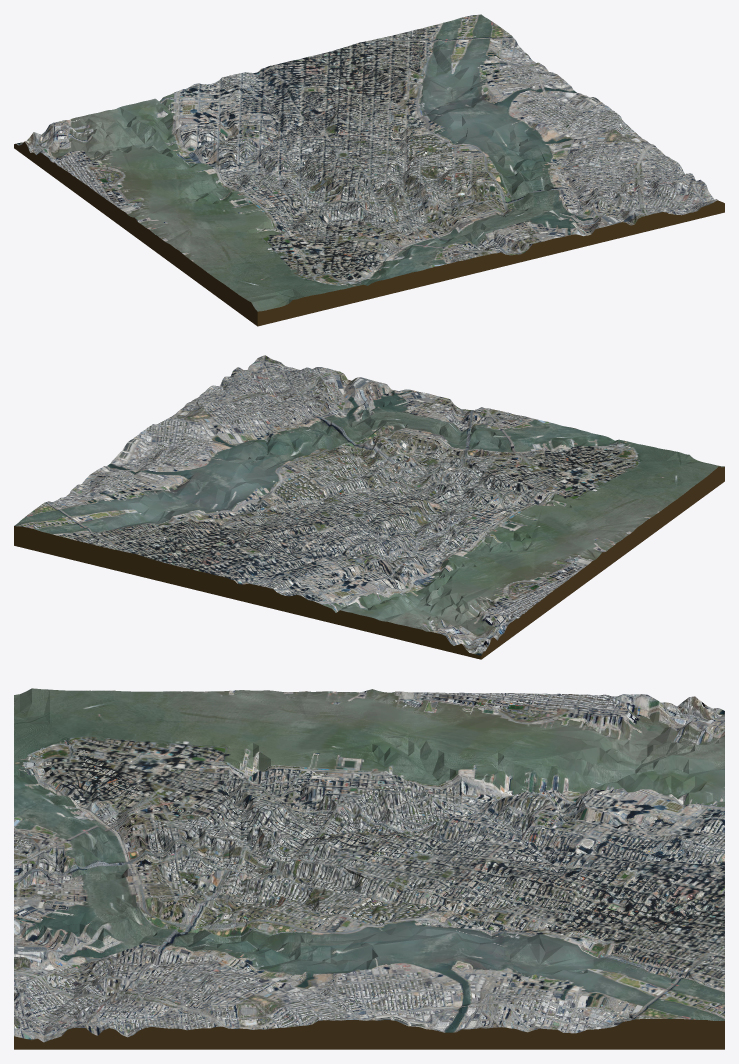
3 views of the same model, one above another, from view 1: azimuth 30°, elevation 25°; view 2: azimuth 150°, elevation 25°; view 3: azimuth 270°, elevation 25° (orthographic). The views are drawn at different scales.
Visible parts, largest first — view 1: Grand_Canyon_v2_0; view 2: Grand_Canyon_v2_0; view 3: Grand_Canyon_v2_0.
Part boxes in pixels (bbox=[...]): Grand_Canyon_v2_0: bbox=[14, 14, 724, 326]; Grand_Canyon_v2_0: bbox=[14, 355, 724, 659]; Grand_Canyon_v2_0: bbox=[14, 688, 724, 1049].
Size of the model in its own units: 45202 by 1990 by 40810.
